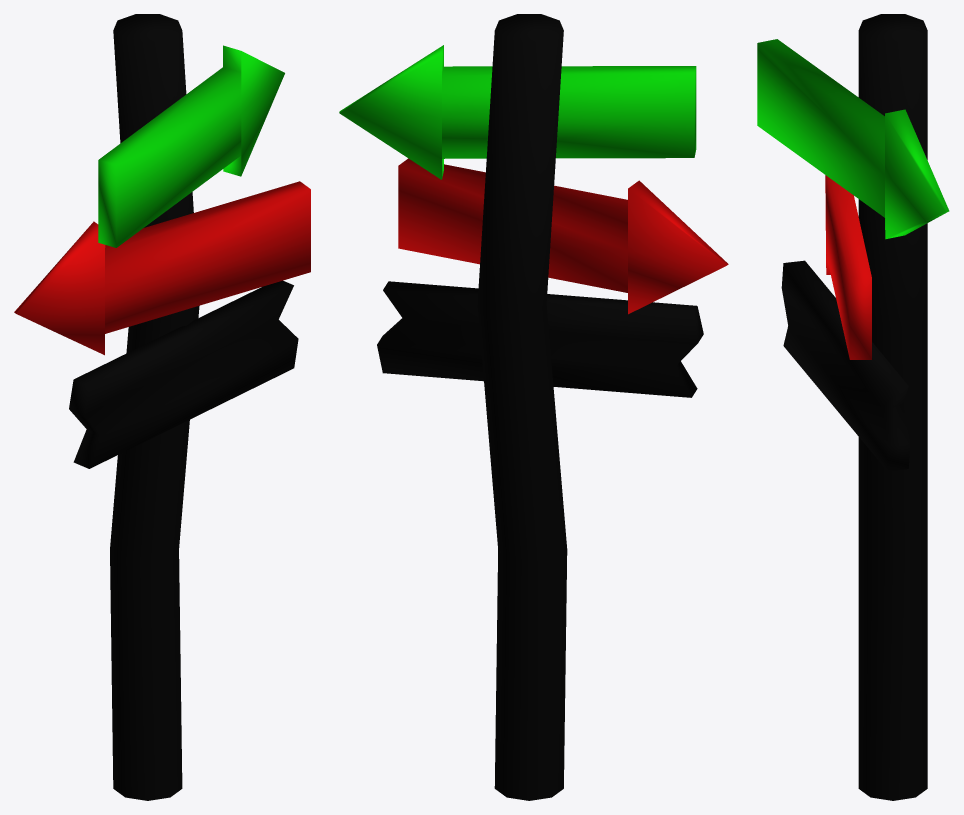
File: SM_Sign_01_LOD1.fbx
The picture shows the model from 3 angles, left to right: view 1: azimuth 30°, elevation 25°; view 2: azimuth 150°, elevation 25°; view 3: azimuth 270°, elevation 25°; orthographic projection.
Parts seen in each view (by area): view 1: Sign_LOD1; view 2: Sign_LOD1; view 3: Sign_LOD1.
Boxes of the visible parts, box(x1,y1,x2,y2) form: Sign_LOD1: box(14, 14, 310, 800); Sign_LOD1: box(339, 14, 728, 800); Sign_LOD1: box(757, 14, 949, 800).
Bounding box in the file's own units: 120 × 263 × 60.41.
